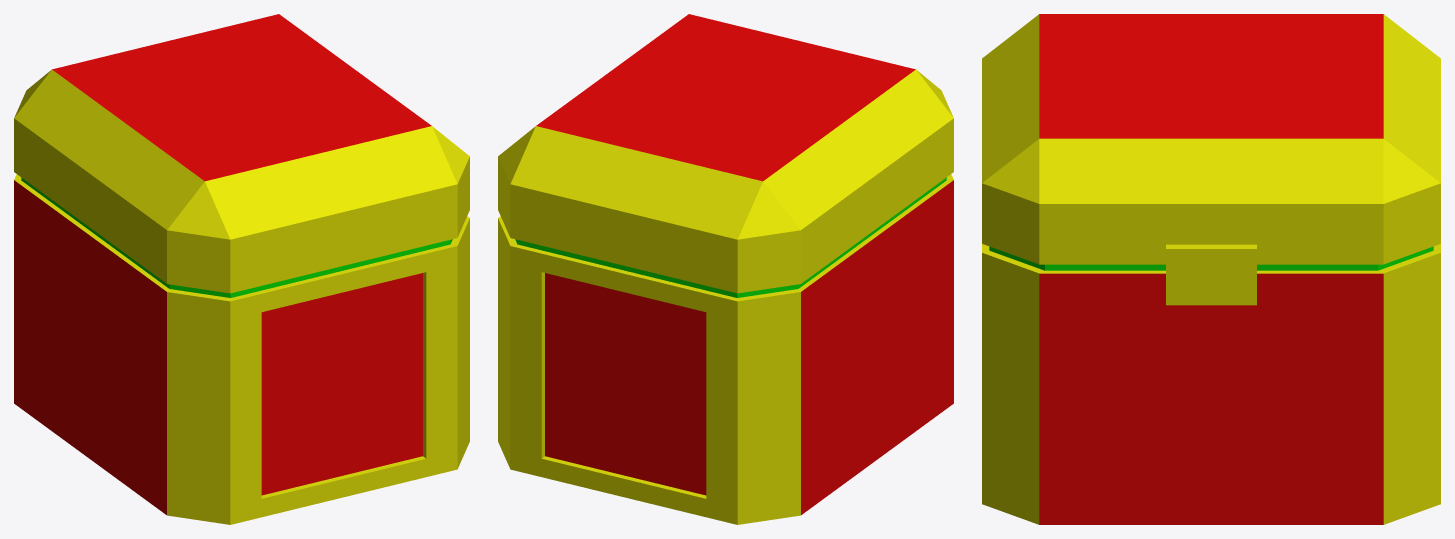
The model's file is CrateB_SM.fbx.
3 views of the same model, side by side, from view 1: azimuth 30°, elevation 25°; view 2: azimuth 150°, elevation 25°; view 3: azimuth 270°, elevation 25° (orthographic). The views are drawn at different scales.
Visible parts, largest first — view 1: polySurface5; view 2: polySurface5; view 3: polySurface5.
Boxes of the visible parts, box(x1,y1,x2,y2) form: polySurface5: box(14, 14, 469, 524); polySurface5: box(498, 14, 953, 524); polySurface5: box(982, 14, 1440, 524).
Size of the model in its own units: 61.58 by 61.51 by 70.
